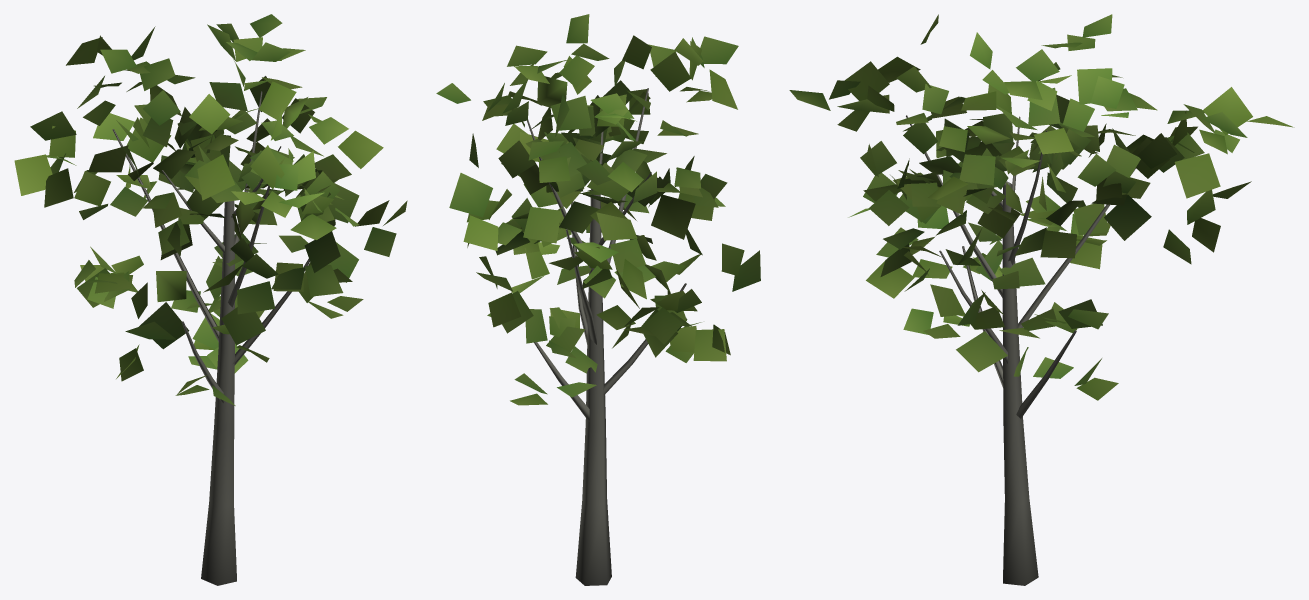
Rendered from beech-a.lod2.glb.
The picture shows the model from 3 angles, left to right: view 1: azimuth 30°, elevation 25°; view 2: azimuth 150°, elevation 25°; view 3: azimuth 270°, elevation 25°; orthographic projection. The views are drawn at different scales.
Bounding box in the file's own units: 6.66 × 12.71 × 10.41.
